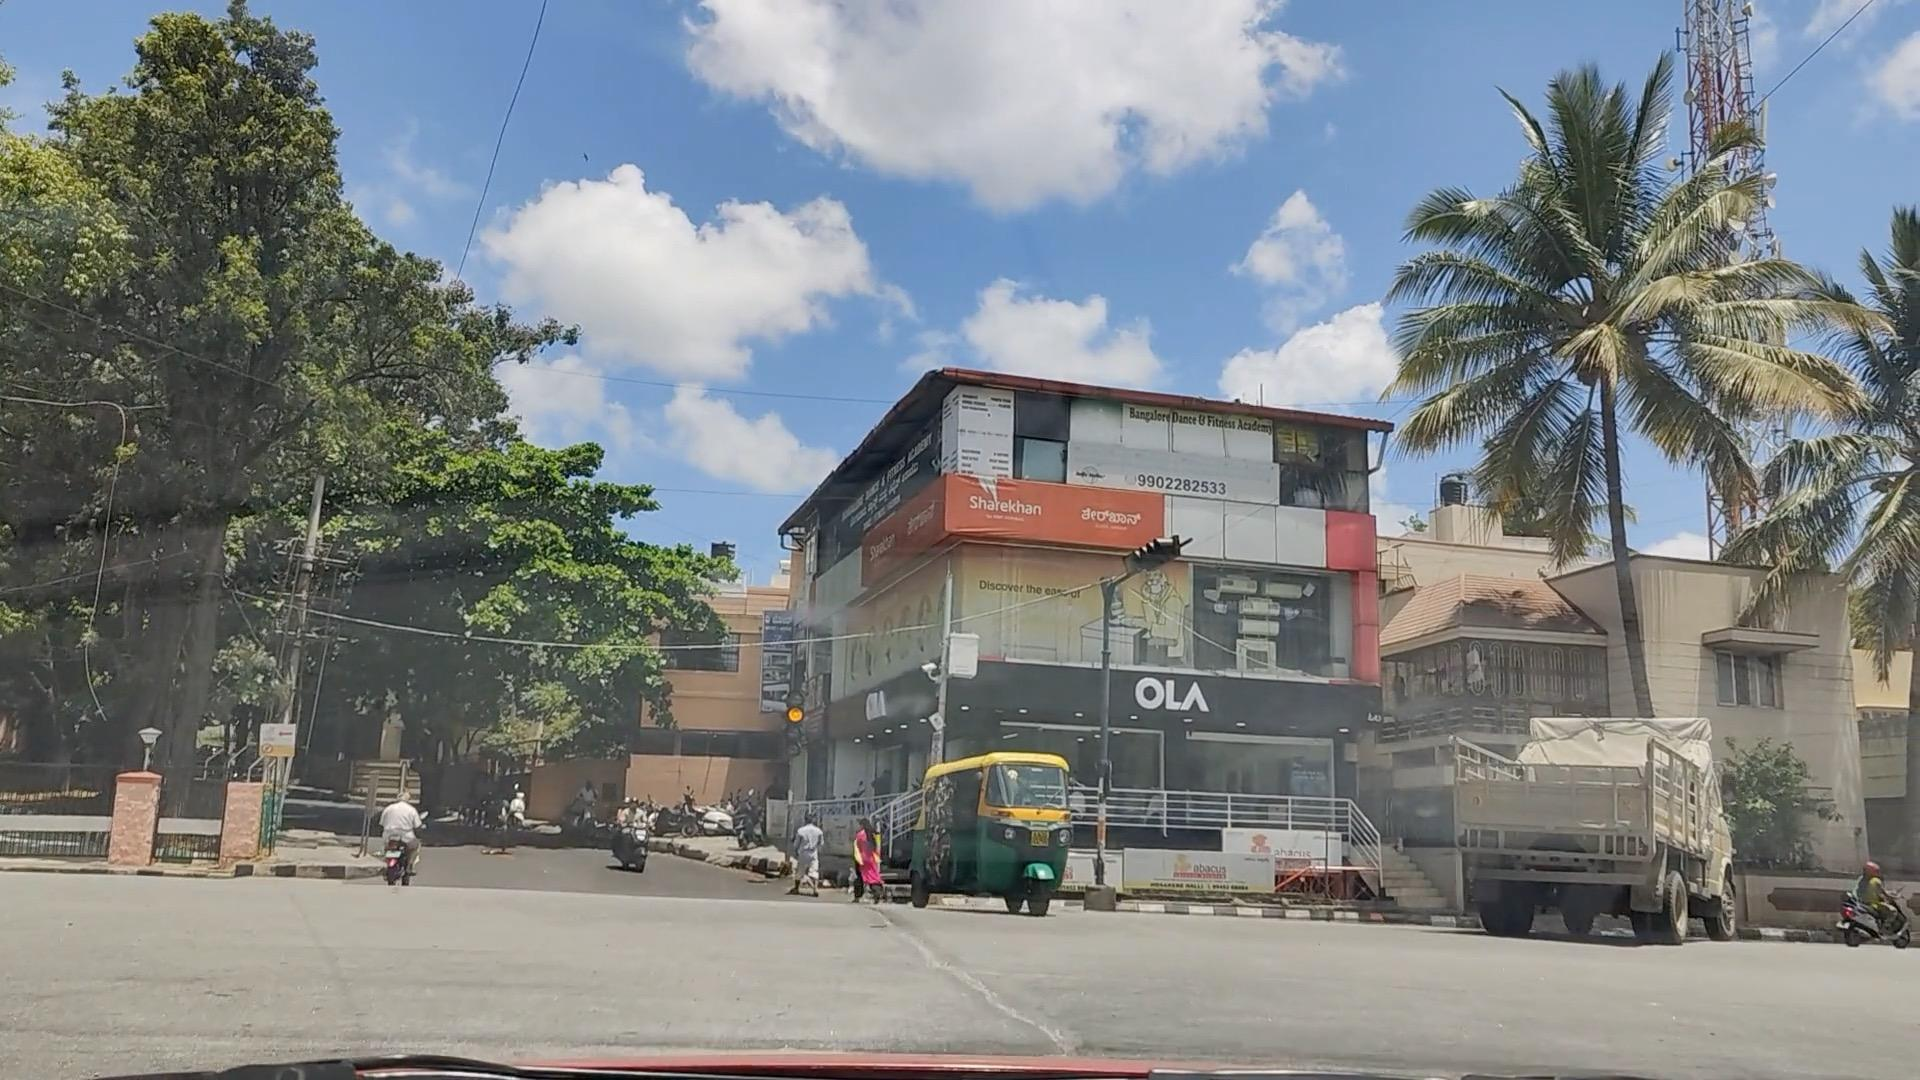HMV: (1444, 687, 1705, 930)
LMV: (910, 744, 1088, 907)
RoadDamages: (903, 947, 1084, 1060)
